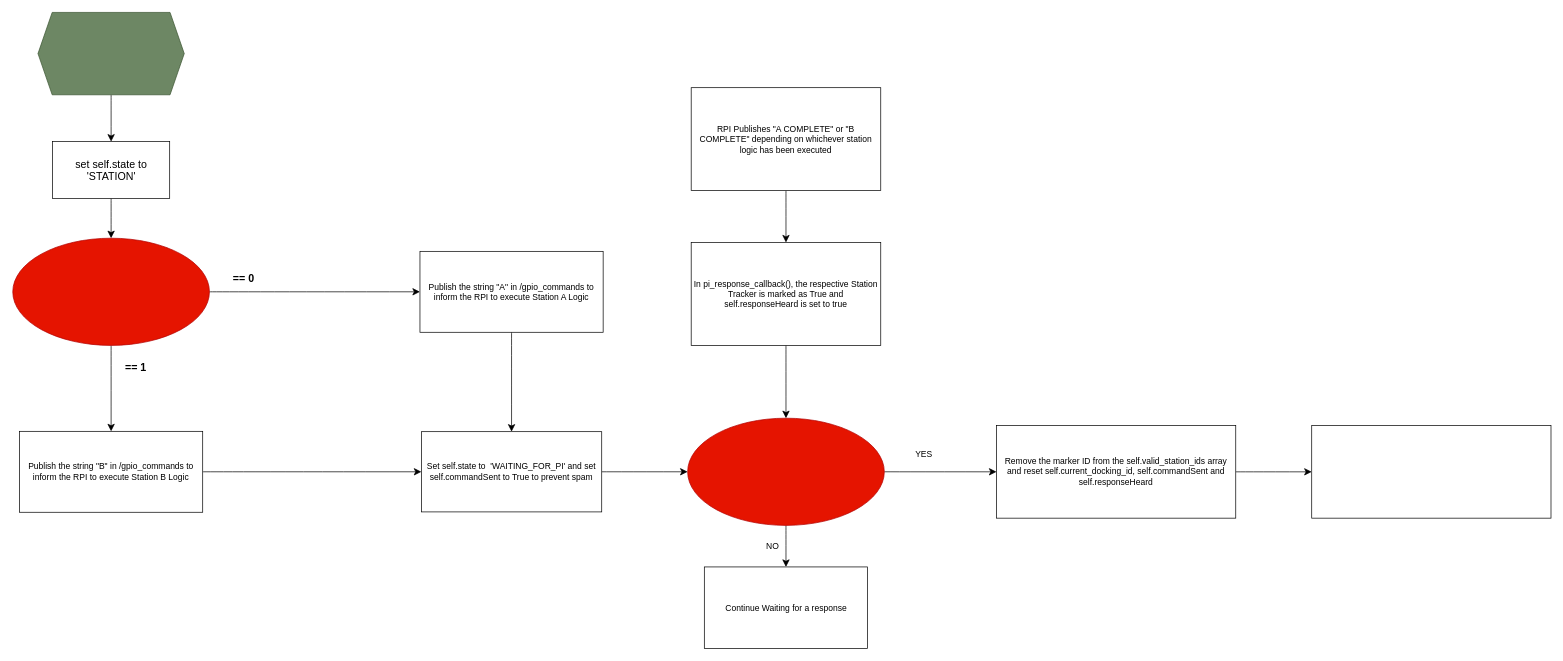
The diagram is 1563 pixels wide and 661 high, and some of its shapes have lost their labels. Each missing label, with the box of its shape:
Check self.current_docking_id for the ID Number of the Marker: (12, 237, 209, 345)
Comence Undocking Sequence: (1311, 425, 1551, 518)
Docking Sequence has been completed: (37, 12, 184, 95)
Is self.responseHeard == True?: (687, 417, 884, 525)
